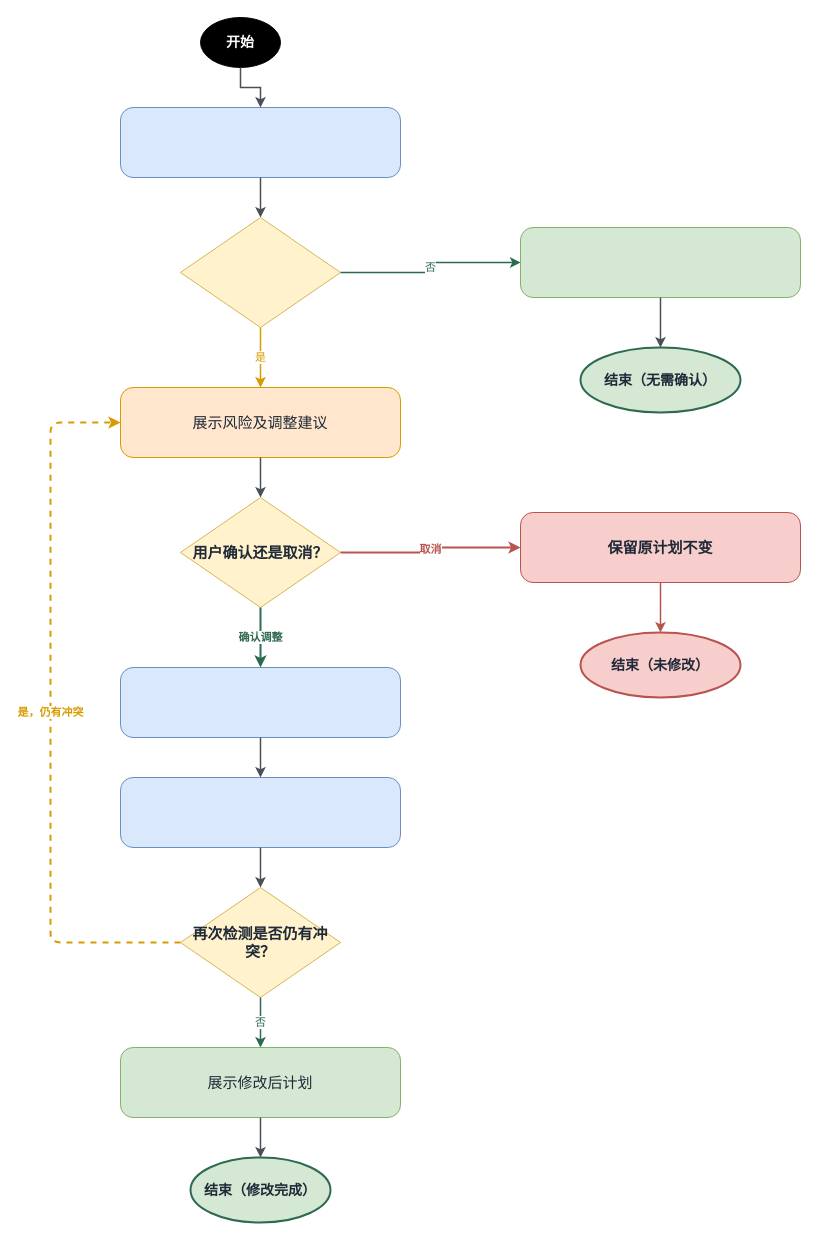
Some shapes in this 818 by 1241 pixel diagram are drawn without their labels. The shapes that lost their labels are listed below. From the top down, each one's centre as x and y in pixels, then its label:
At [260,142]: "检测天气风险".
At [260,272]: "是否存在天气风险？".
At [660,262]: "展示无风险提示".
At [260,702]: "仅修改目标时段".
At [260,812]: "再次检测天气冲突".
